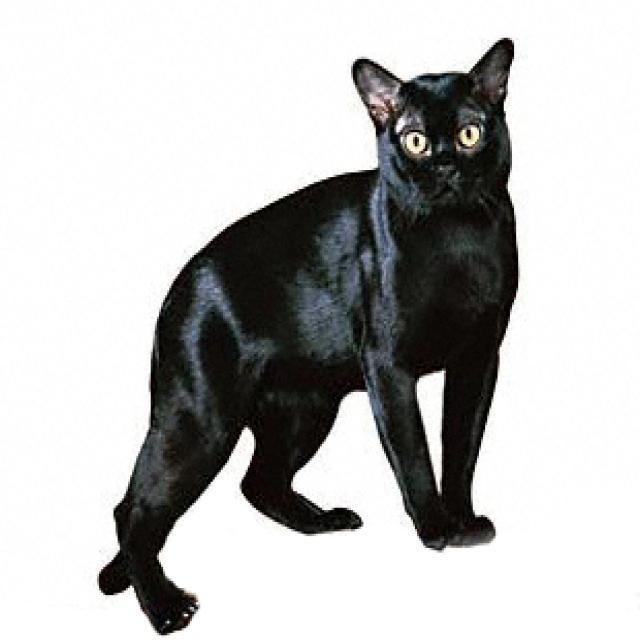Bombay: (349, 36, 510, 203)
